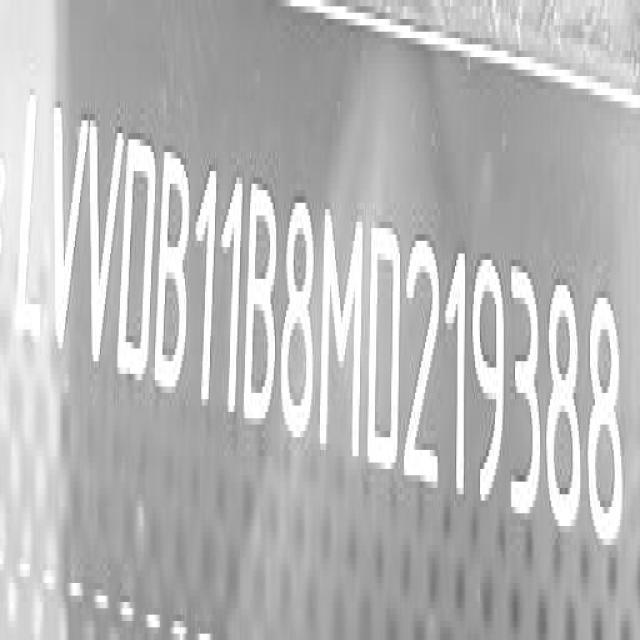1: (442, 248, 470, 512), (196, 162, 218, 421), (221, 171, 242, 426)
2: (408, 240, 442, 499)
3: (510, 266, 542, 531)
8: (548, 277, 584, 539), (591, 295, 623, 550), (284, 194, 316, 449)
9: (472, 254, 505, 518)
B: (156, 145, 192, 400), (247, 176, 280, 431)
D: (121, 132, 158, 394), (370, 223, 401, 482)
L: (14, 87, 46, 368)
M: (320, 204, 363, 470)
V: (89, 114, 121, 383), (50, 103, 82, 364)
